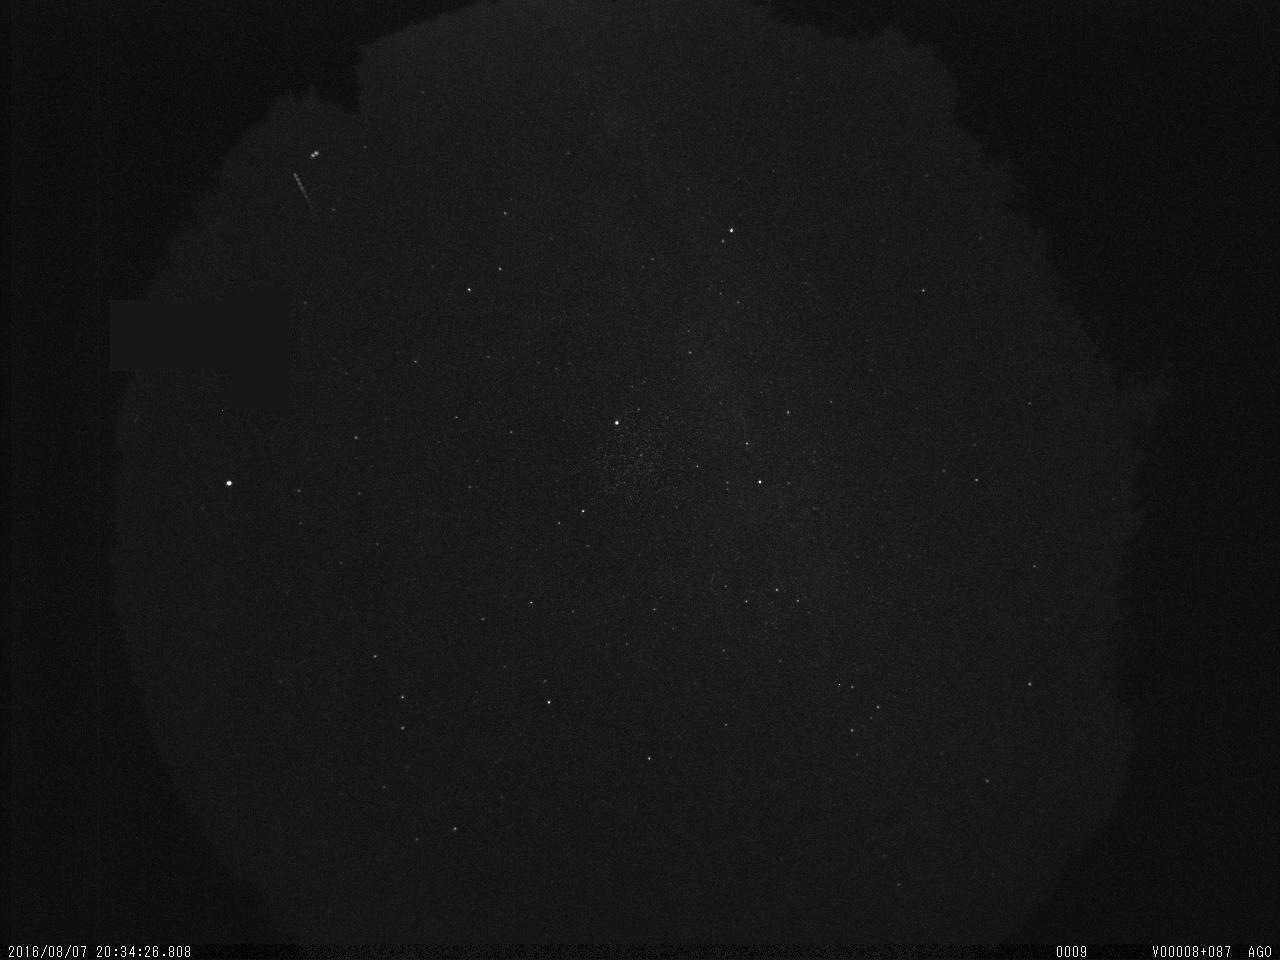meteor: (282, 165, 323, 222)
satelite: (307, 140, 325, 165)
